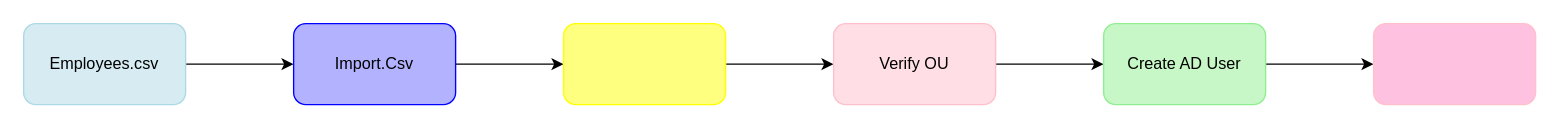
Image size: 1559x128. Some labels were removed from this diagram. Each missing label, with the box of its shape:
Check Existing User: (562, 22, 726, 105)
Log Result: (1372, 22, 1536, 105)
